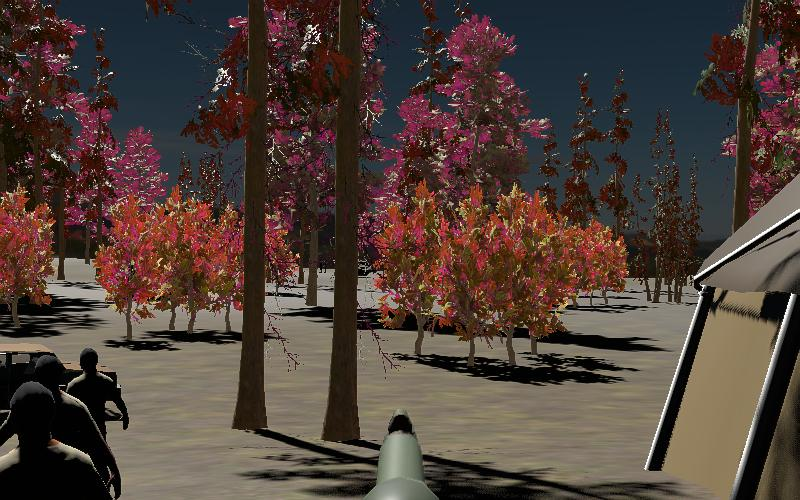Human: (0, 382, 111, 500), (66, 347, 132, 449)
